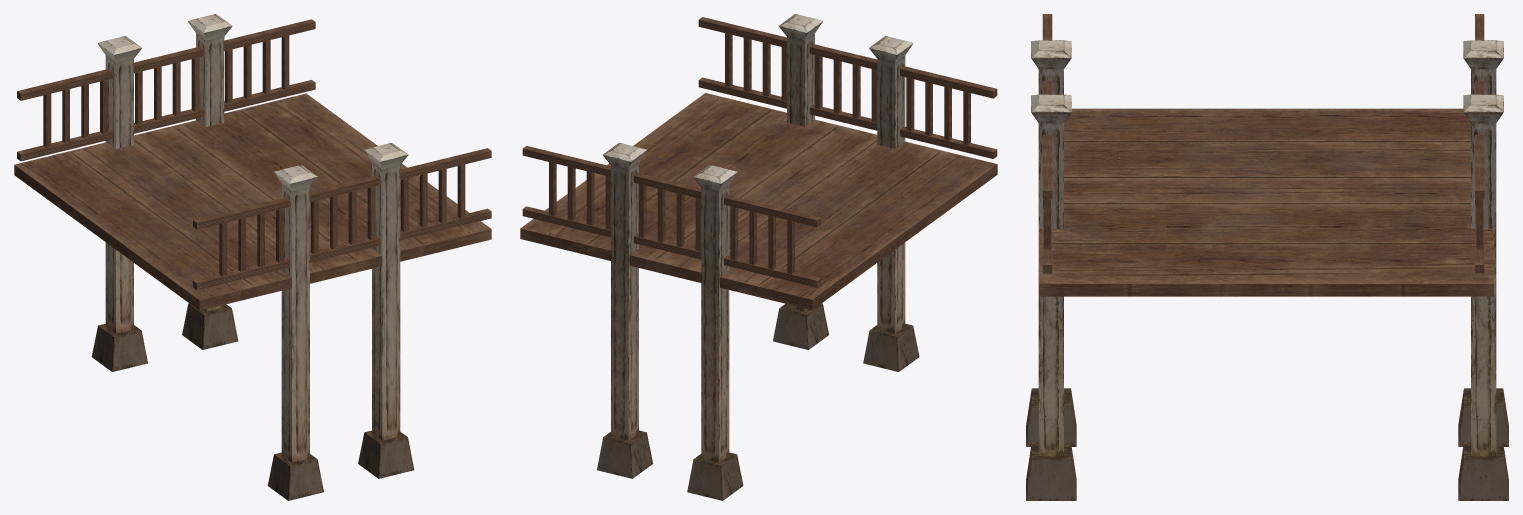
The model's file is bridge_mid.fbx.
3 renders of one model, left to right at view 1: azimuth 30°, elevation 25°; view 2: azimuth 150°, elevation 25°; view 3: azimuth 270°, elevation 25°, orthographic. The views are drawn at different scales.
Visible parts, largest first — view 1: brg_middle; view 2: brg_middle; view 3: brg_middle.
Part boxes in pixels (x1,y1,x2,y2): brg_middle: (14, 14, 491, 500); brg_middle: (520, 14, 997, 500); brg_middle: (1026, 14, 1508, 500).
Size of the model in its own units: 109 by 112 by 126.
